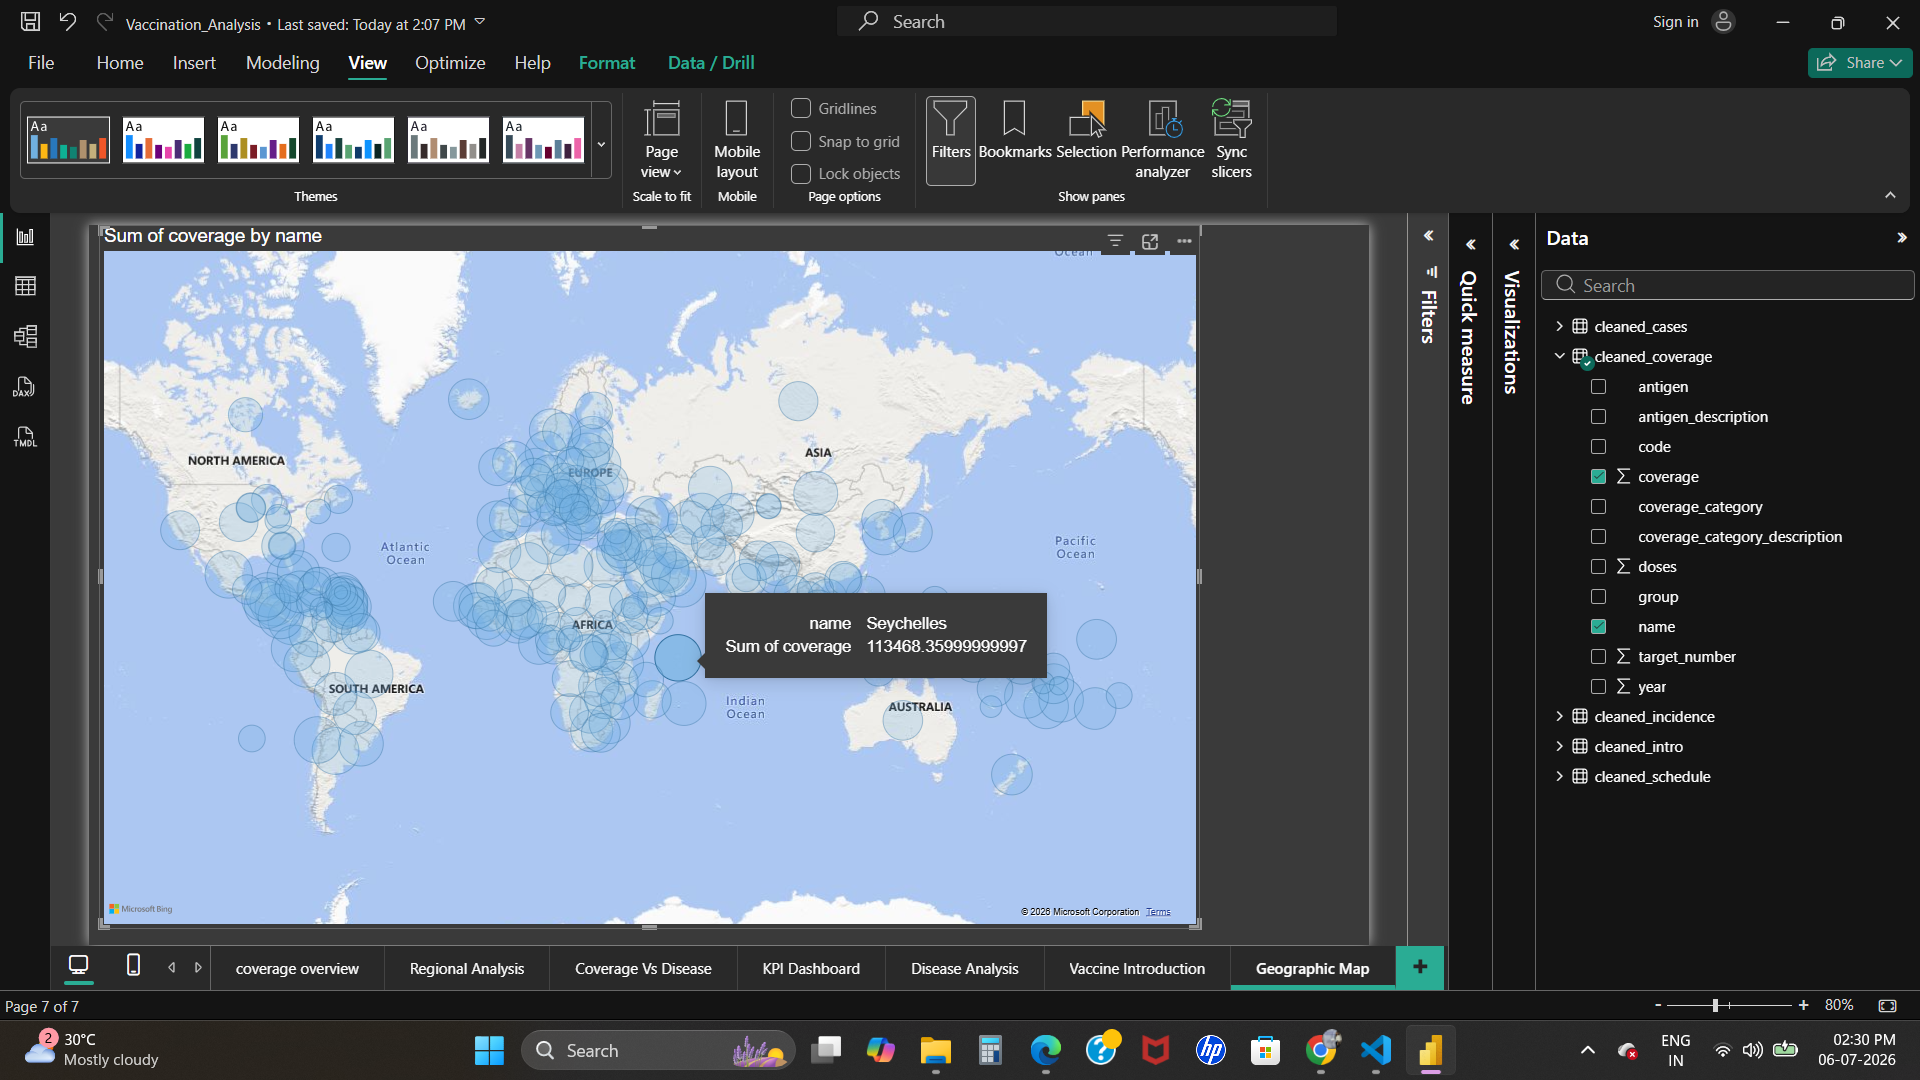

Layout of this report page (visuals, bound fields, positions):
{"tool":"powerbi","page":{"name":"Geographic Map","canvas":[1280,720],"ordinal":6},"visuals":[{"type":"map","fields":{"Category":["cleaned_coverage.name"],"Size":["Sum(cleaned_coverage.coverage)"]},"box":[10,0,1101.7,703.3],"z":0}]}

Visuals, with their boxes on the page's 1280x720 design canvas (x1, y1, x2, y2). These are canvas units, not pixel positions in the 1920x1080 screenshot, which may show the page scaled, cropped or inside an application window:
map - cleaned_coverage.name x Sum(cleaned_coverage.coverage): {"left": 10, "top": 0, "right": 1112, "bottom": 703}
